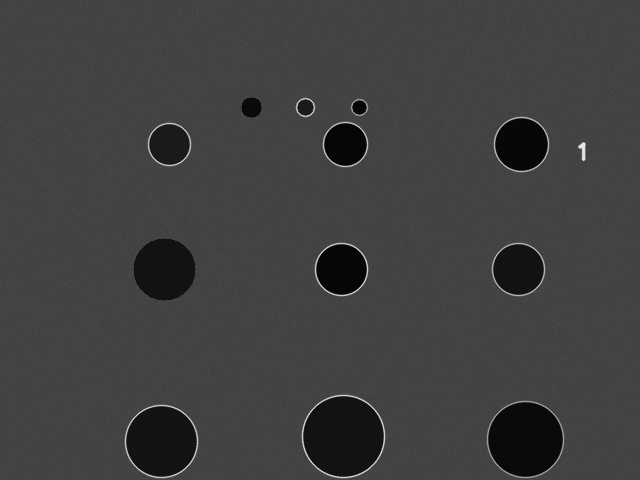hole: (302, 395, 384, 477), (487, 401, 563, 477), (125, 405, 197, 477), (133, 238, 195, 300), (494, 117, 548, 171), (315, 243, 367, 295), (492, 243, 544, 295), (323, 122, 367, 166), (148, 123, 190, 165), (241, 97, 261, 117), (296, 98, 314, 116), (351, 99, 367, 115)
